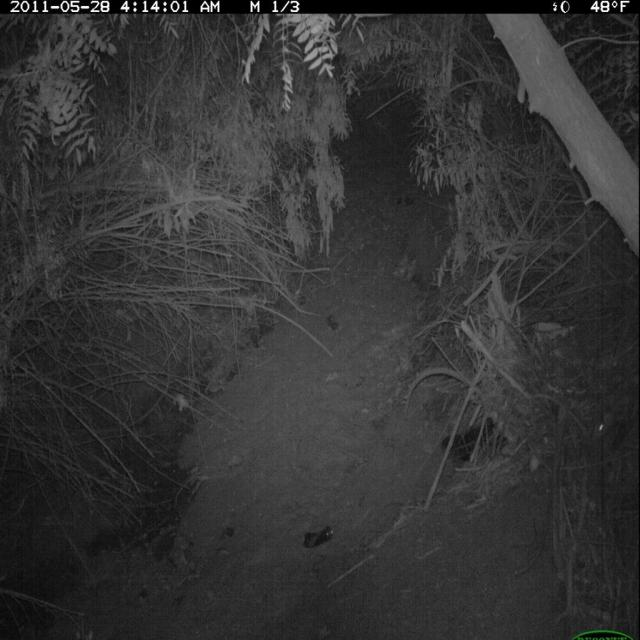opossum: (588, 381, 639, 473)
